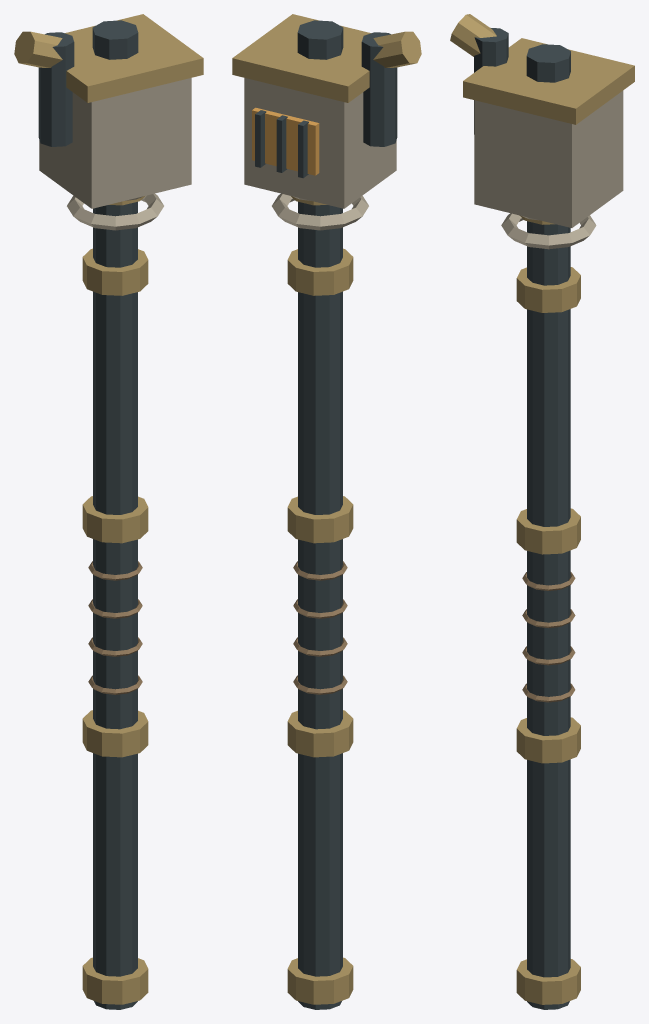
Rendered from Arsenal_AshKilnStaff.fbx.
3 renders of one model, left to right at view 1: azimuth 30°, elevation 25°; view 2: azimuth 150°, elevation 25°; view 3: azimuth 330°, elevation 25°, orthographic. The views are drawn at different scales.
Parts seen in each view (by area): view 1: Arsenal_AshKilnStaff; view 2: Arsenal_AshKilnStaff; view 3: Arsenal_AshKilnStaff.
Part boxes in pixels (bbox=[...]): Arsenal_AshKilnStaff: bbox=[14, 14, 203, 1009]; Arsenal_AshKilnStaff: bbox=[232, 14, 421, 1009]; Arsenal_AshKilnStaff: bbox=[450, 14, 634, 1009].
Bounding box in the file's own units: 0.3405 × 2.08 × 0.246.
